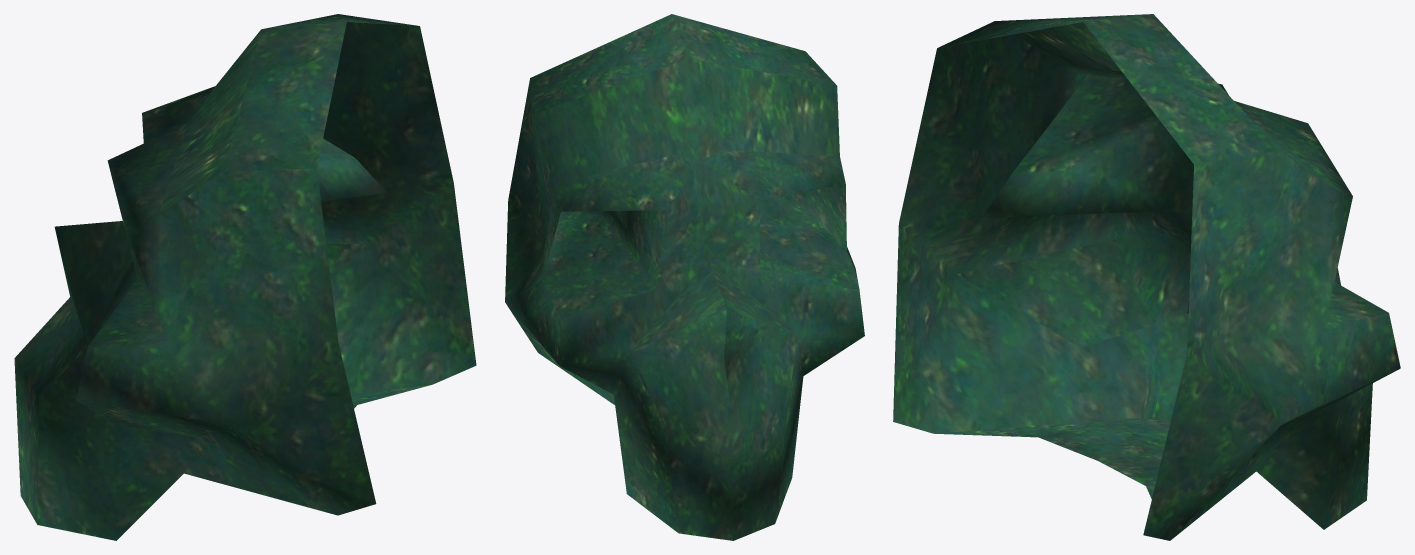
Rendered from MIRKWOOD_MIRK_PLAYSURFACE20.fbx.
3 views of the same model, side by side, from view 1: azimuth 30°, elevation 25°; view 2: azimuth 150°, elevation 25°; view 3: azimuth 270°, elevation 25° (orthographic). The views are drawn at different scales.
Parts seen in each view (by area): view 1: MIRKWOOD_MIRK_PLAYSURFACE20; view 2: MIRKWOOD_MIRK_PLAYSURFACE20; view 3: MIRKWOOD_MIRK_PLAYSURFACE20.
Boxes of the visible parts, x1,y1,x2,y2 form: MIRKWOOD_MIRK_PLAYSURFACE20: [14, 14, 476, 540]; MIRKWOOD_MIRK_PLAYSURFACE20: [505, 14, 864, 540]; MIRKWOOD_MIRK_PLAYSURFACE20: [893, 14, 1400, 540].
Size of the model in its own units: 6873 by 8200 by 6831.
1 material, 1 textured.
